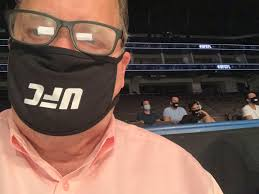mask: (8, 37, 117, 136), (250, 96, 259, 104), (143, 104, 151, 110), (171, 103, 179, 108)
